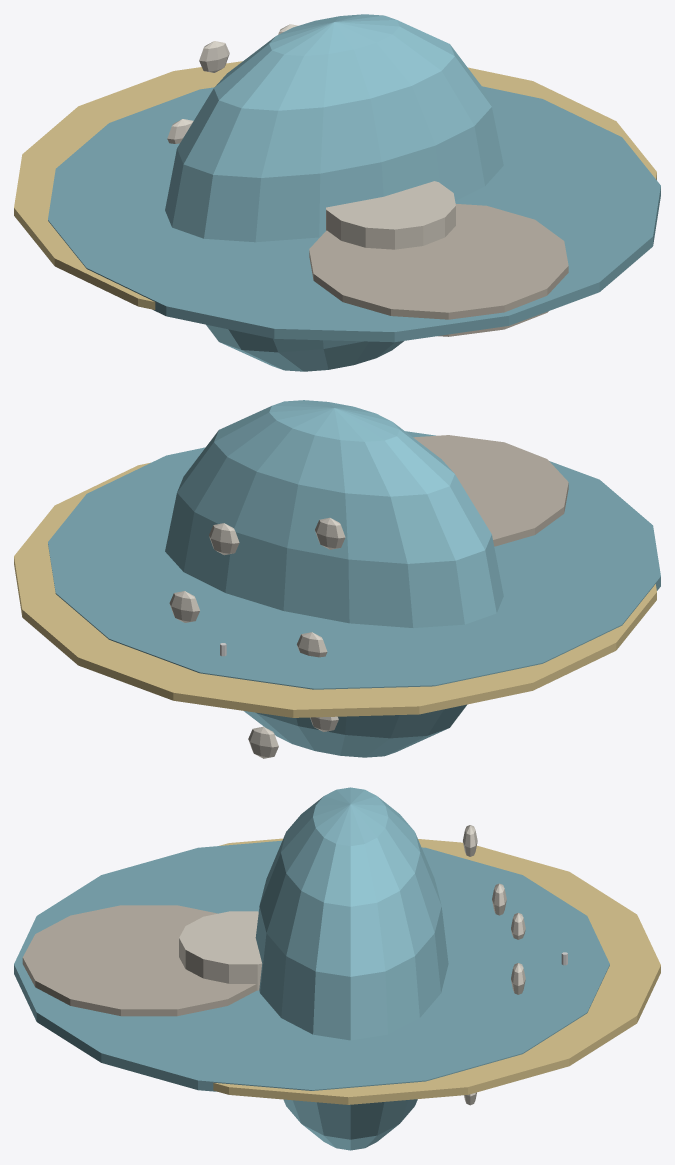
The model's file is tower_blue_inner.fbx.
3 renders of one model, top to bottom at view 1: azimuth 30°, elevation 25°; view 2: azimuth 150°, elevation 25°; view 3: azimuth 270°, elevation 25°, orthographic. The views are drawn at different scales.
Visible parts, largest first — view 1: Top_Cap, Body; view 2: Top_Cap, Body; view 3: Top_Cap, Body.
Boxes of the visible parts, <box> form: Top_Cap: <box>14,14,660,371</box>; Body: <box>309,181,568,336</box>; Top_Cap: <box>14,400,660,758</box>; Body: <box>413,435,568,546</box>; Top_Cap: <box>14,787,660,1150</box>; Body: <box>22,905,262,1016</box>.
Bounding box in the file's own units: 292 × 170 × 302.
